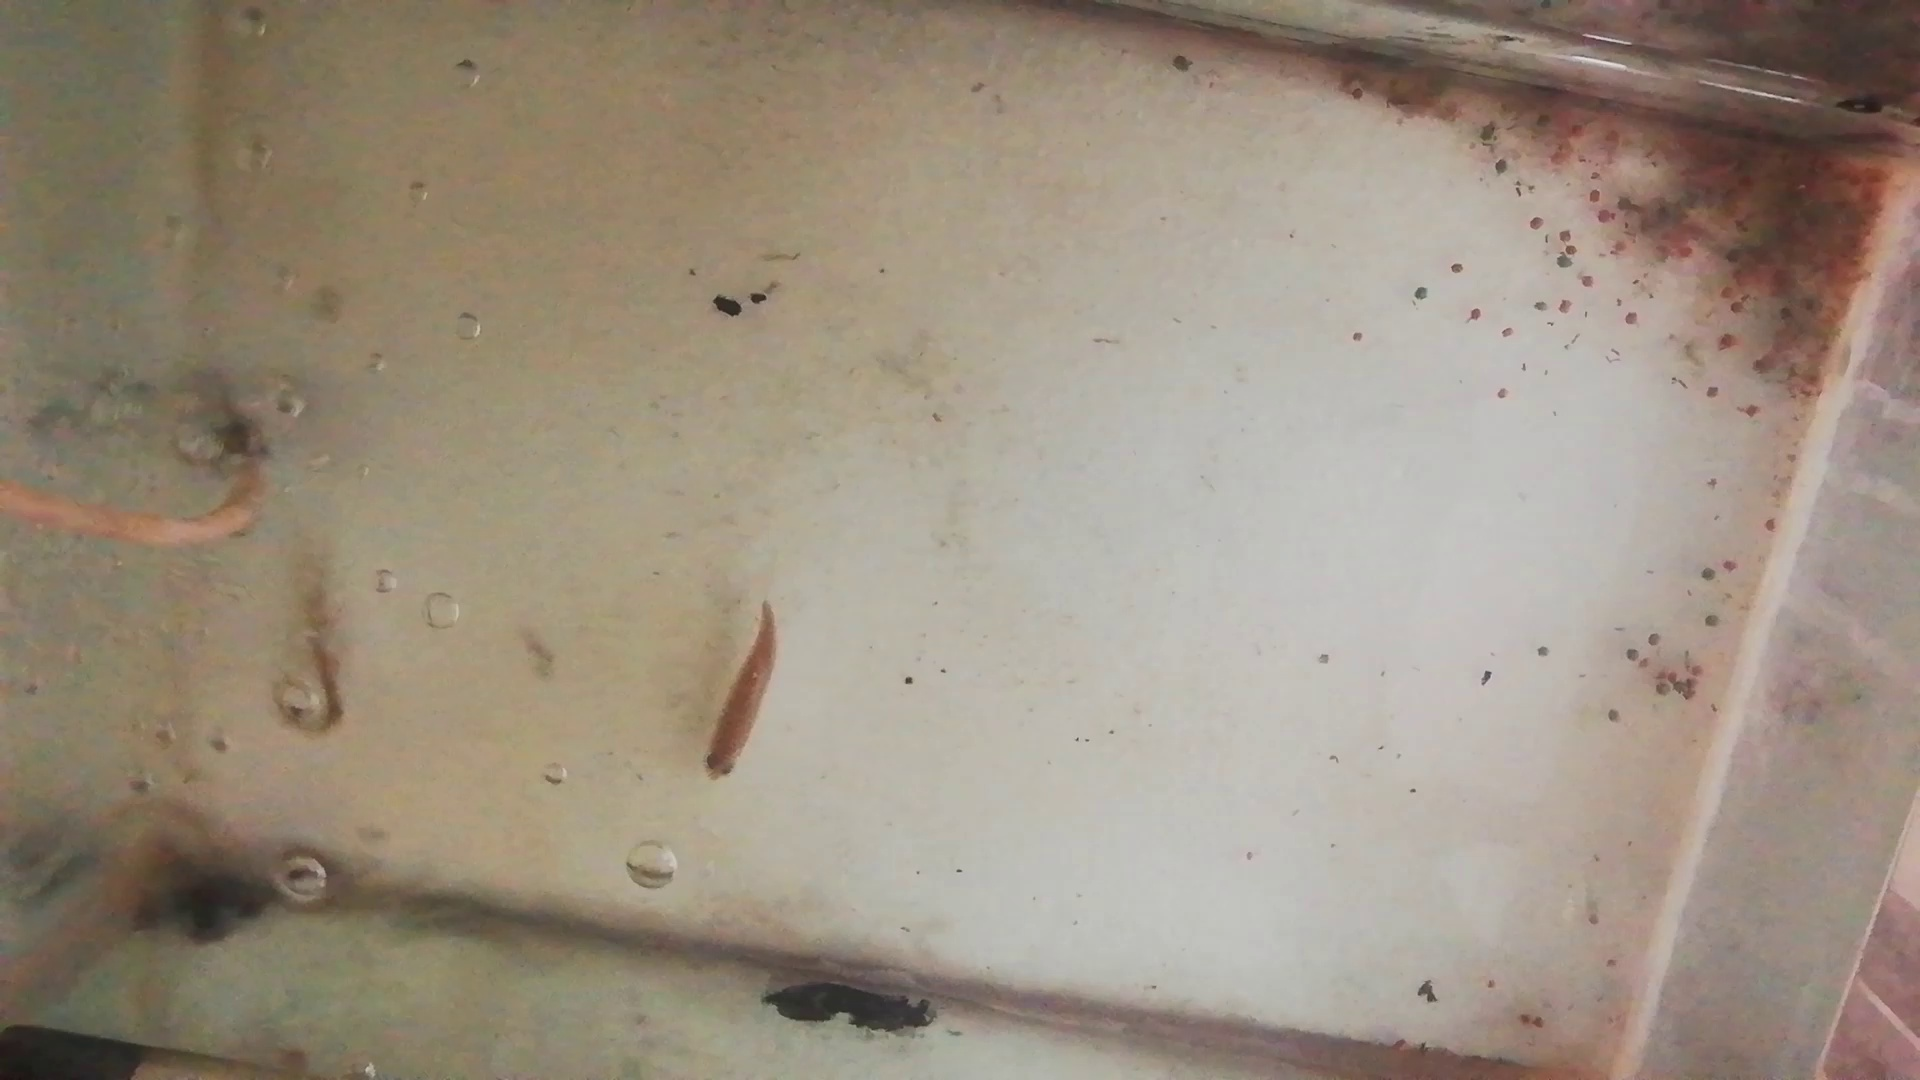fish: (698, 597, 775, 781), (280, 559, 353, 735)
